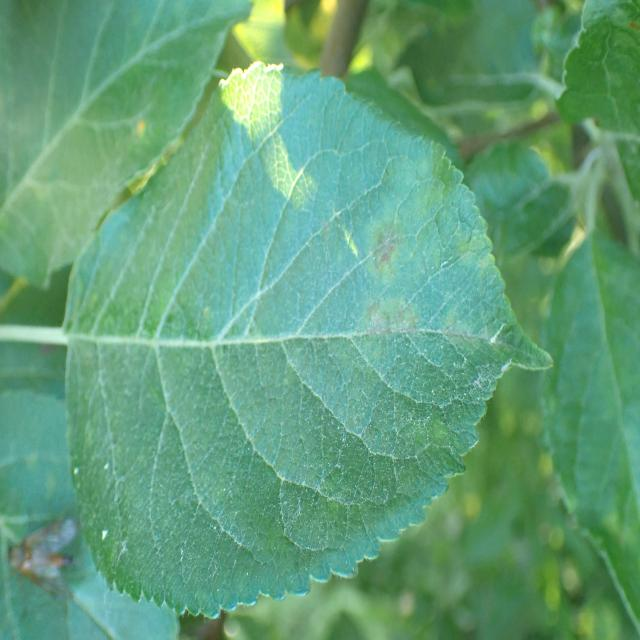scab: (114, 190, 508, 520)
